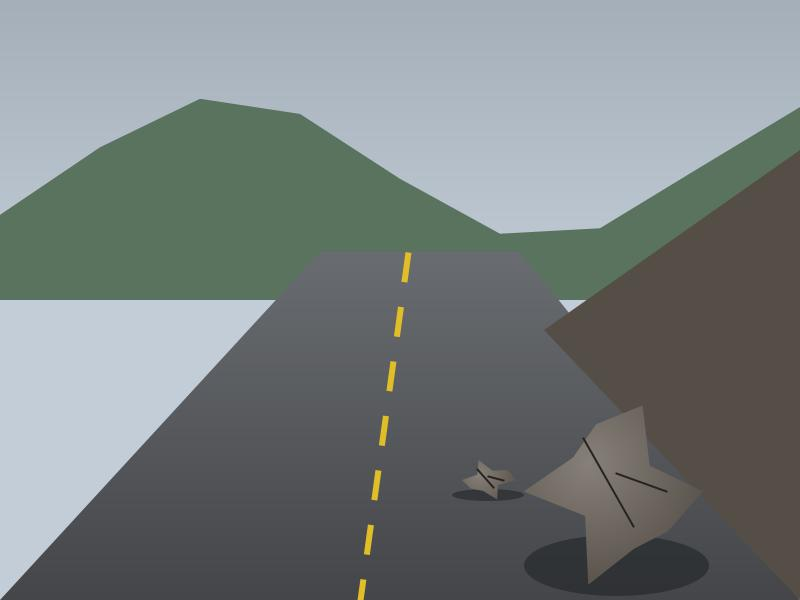ROAD_OBSTACLE: (534, 403, 699, 580), (462, 462, 514, 498)
